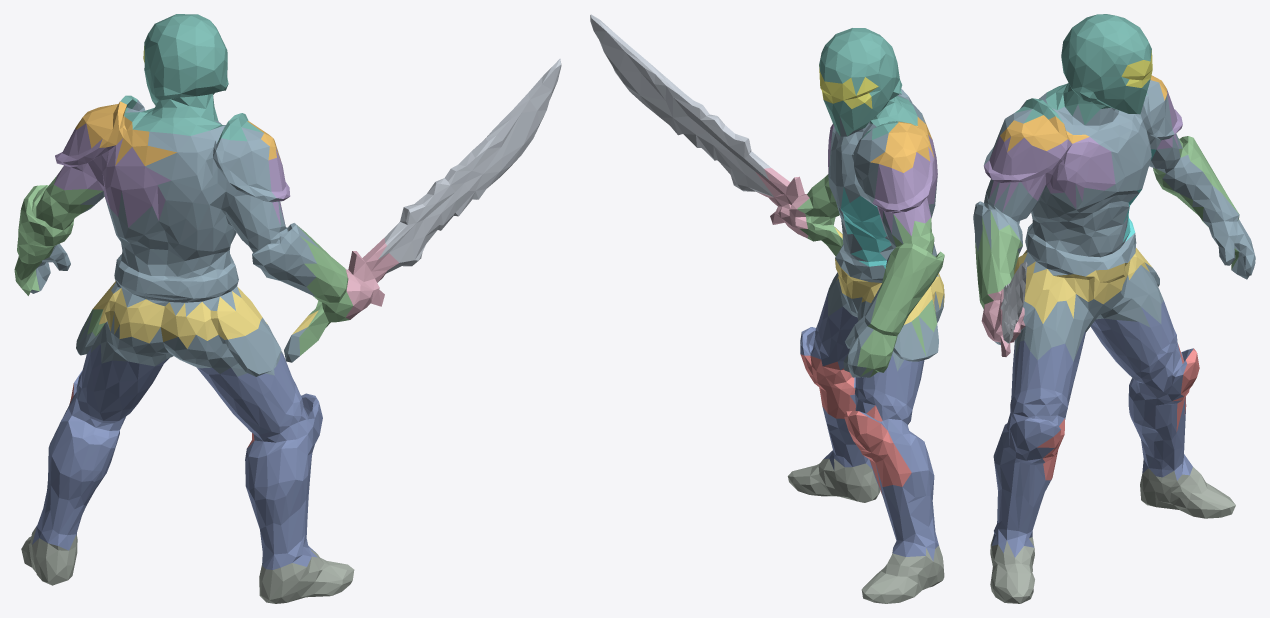
Rendered from guerrier_v2_ZONES.glb.
3 renders of one model, left to right at view 1: azimuth 30°, elevation 25°; view 2: azimuth 150°, elevation 25°; view 3: azimuth 270°, elevation 25°, orthographic. The views are drawn at different scales.
Visible parts, largest first — view 1: guerrier_v2_zones; view 2: guerrier_v2_zones; view 3: guerrier_v2_zones.
Part boxes in pixels (box(x1,y1,x2,y2)): guerrier_v2_zones: box(14, 14, 561, 603); guerrier_v2_zones: box(590, 14, 944, 603); guerrier_v2_zones: box(973, 14, 1255, 603).
Size of the model in its own units: 1.69 by 1.96 by 0.9408.
